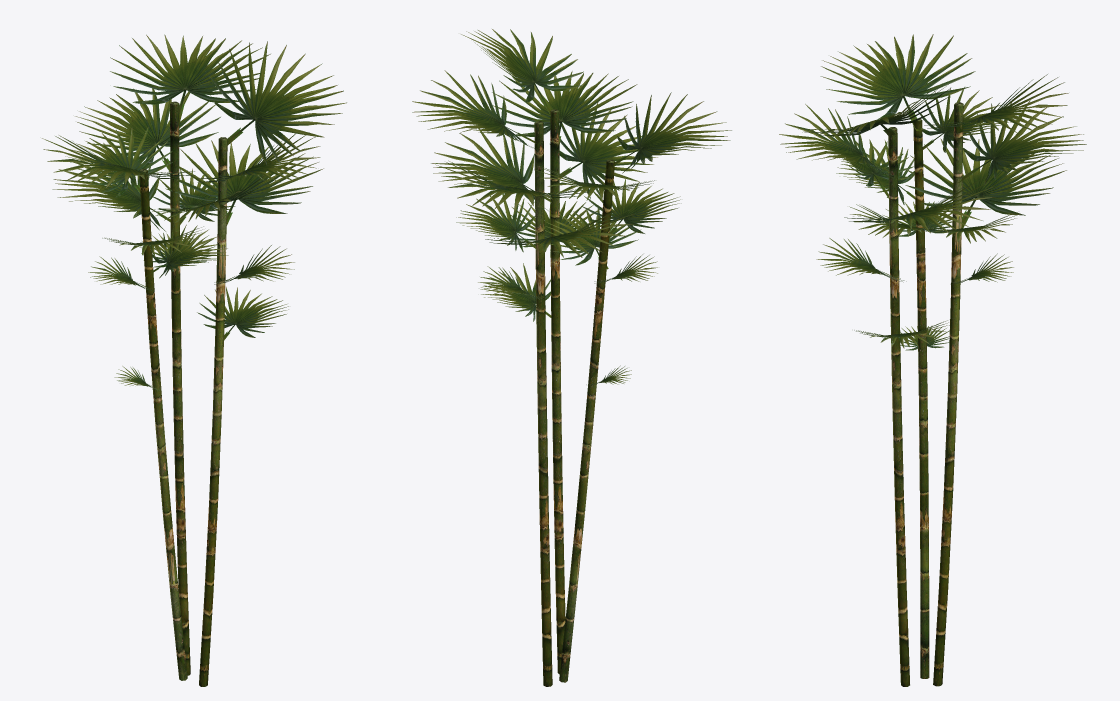
Rendered from bamboo.obj.
3 views of the same model, side by side, from view 1: azimuth 30°, elevation 25°; view 2: azimuth 150°, elevation 25°; view 3: azimuth 270°, elevation 25° (orthographic). The views are drawn at different scales.
Size of the model in its own units: 20.06 by 38.45 by 18.41.
1 material, 1 textured.
